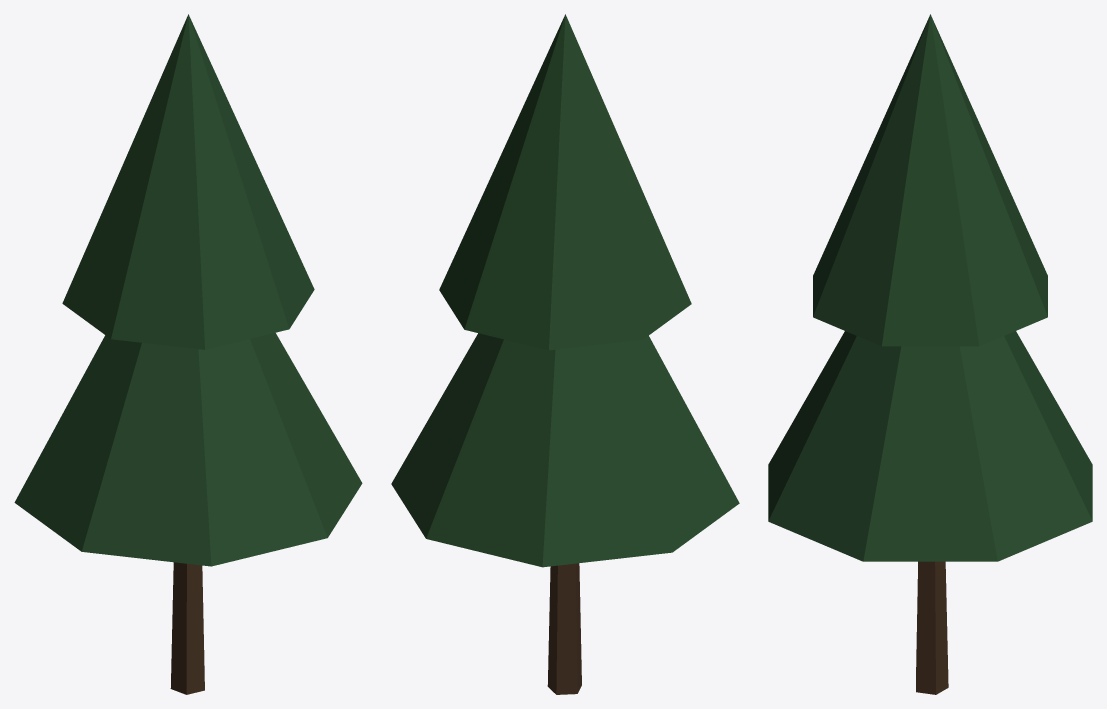
3 views of the same model, side by side, from view 1: azimuth 30°, elevation 25°; view 2: azimuth 150°, elevation 25°; view 3: azimuth 270°, elevation 25° (orthographic).
Parts seen in each view (by area): view 1: 树_01; view 2: 树_01; view 3: 树_01.
Boxes of the visible parts, bbox=[...] form: 树_01: bbox=[14, 14, 362, 694]; 树_01: bbox=[391, 14, 739, 694]; 树_01: bbox=[768, 14, 1092, 694].
Bounding box in the file's own units: 3.14 × 7.2 × 3.14.
